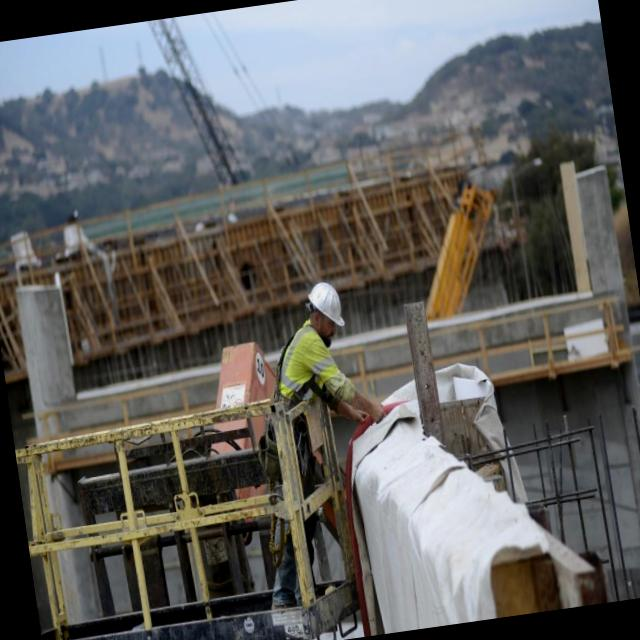helmet: (301, 268, 349, 338)
vest: (283, 334, 334, 401)
